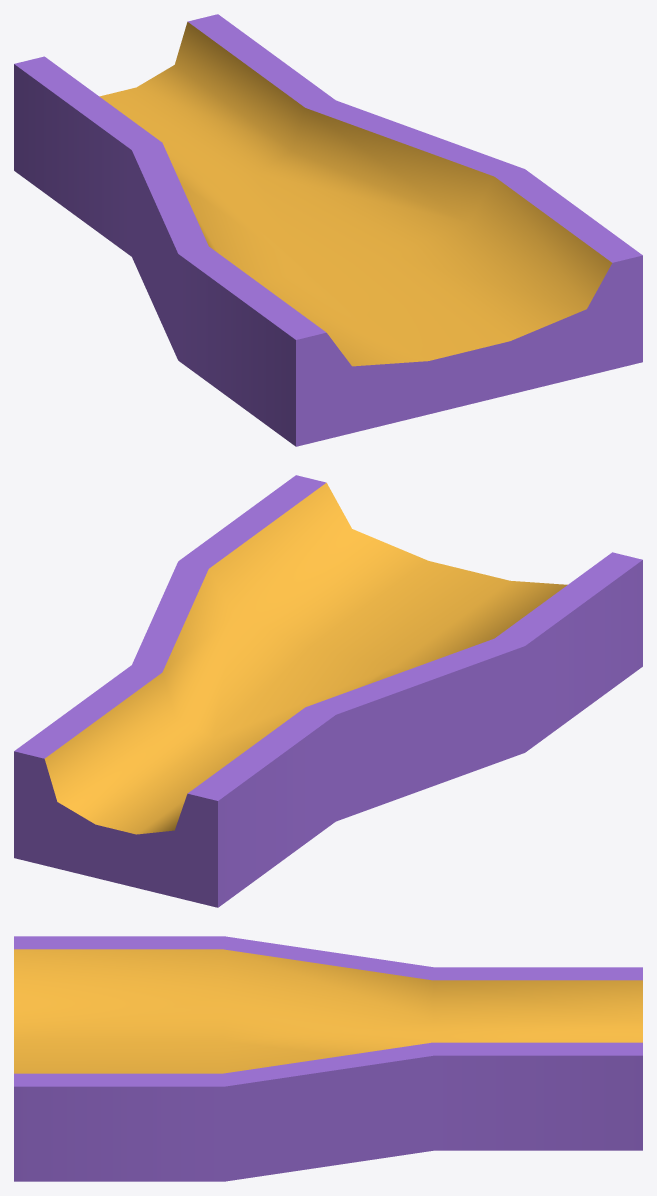
File: funnel-long.glb
3 renders of one model, top to bottom at view 1: azimuth 30°, elevation 25°; view 2: azimuth 150°, elevation 25°; view 3: azimuth 270°, elevation 25°, orthographic. The views are drawn at different scales.
Visible parts, largest first — view 1: funnel-long; view 2: funnel-long; view 3: funnel-long.
Part boxes in pixels (x1,y1,x2,y2): funnel-long: [14, 14, 642, 446]; funnel-long: [14, 475, 642, 907]; funnel-long: [14, 936, 642, 1181].
Bounding box in the file's own units: 1.7 × 0.5 × 3.
Materials: 1 (1 with a texture image).
